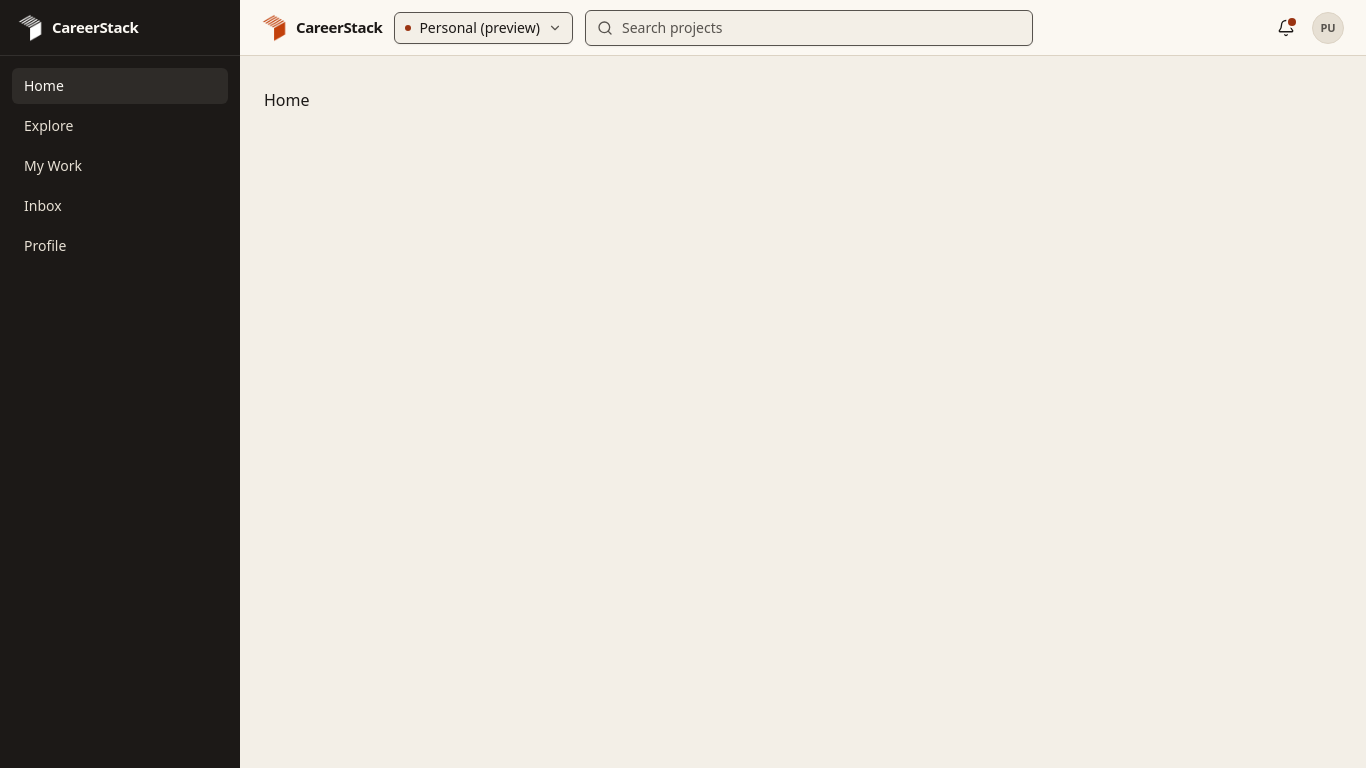
AppShell › closes the notification center with Escape
Click the button with test id "notification-bell" at (1286, 28), box [1268, 10, 1304, 46]
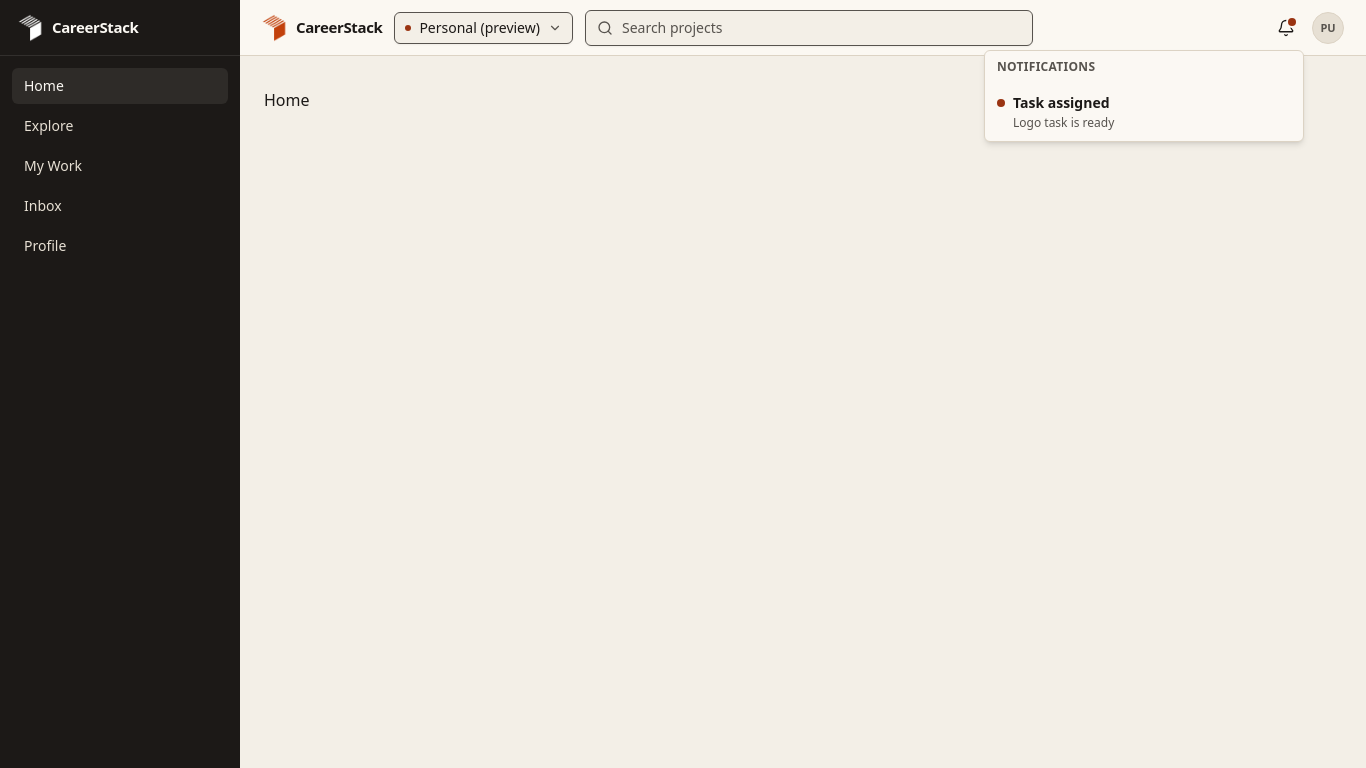
Now the element with test id "notification-center" is shown, box [985, 51, 1303, 141]
Press Escape
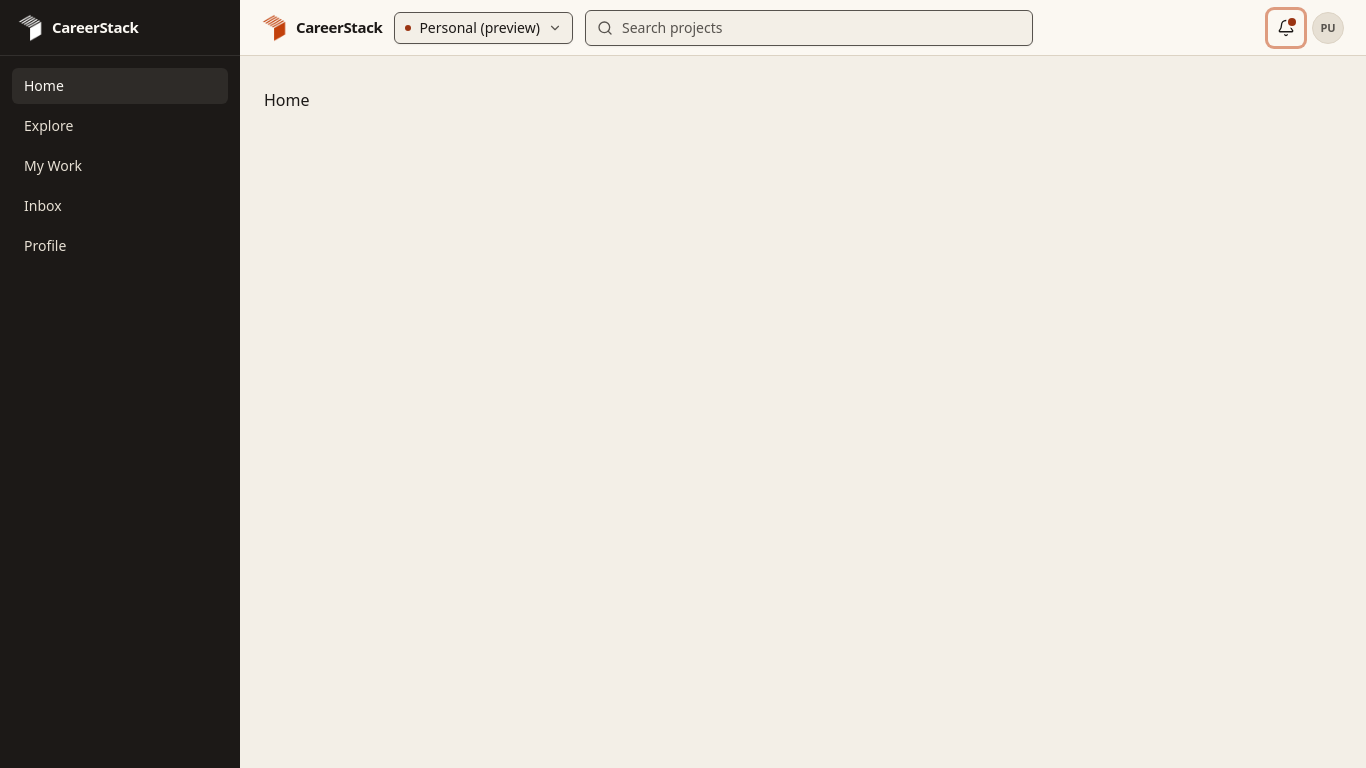
Now the element with test id "notification-center" is gone
